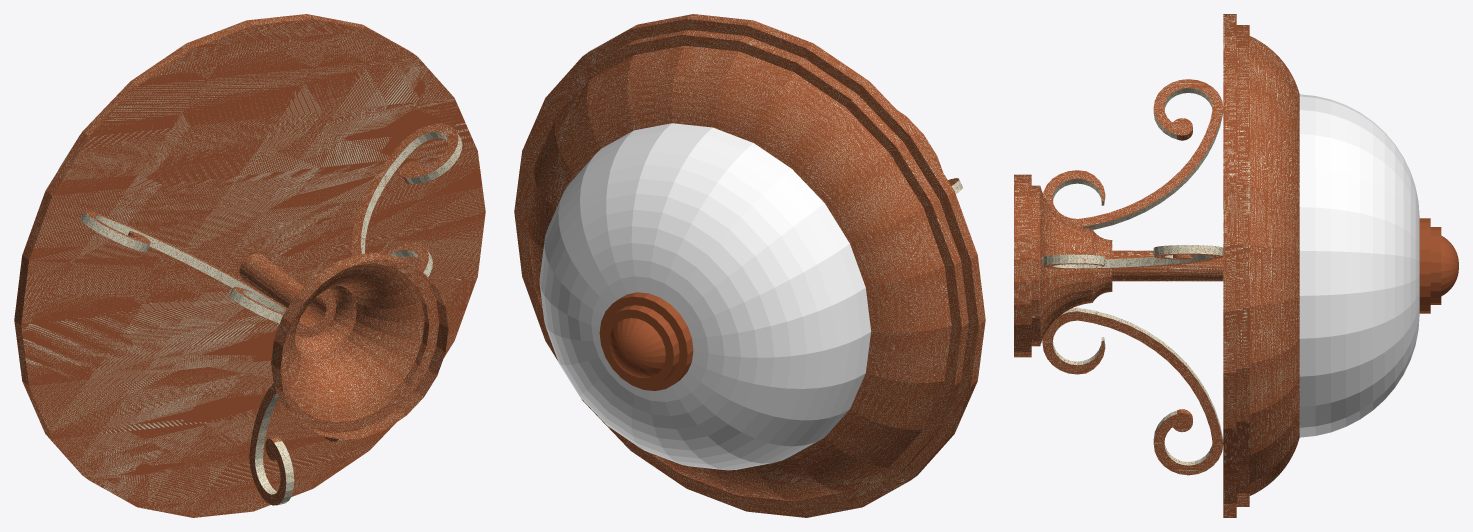
3 views of the same model, side by side, from view 1: azimuth 30°, elevation 25°; view 2: azimuth 150°, elevation 25°; view 3: azimuth 270°, elevation 25° (orthographic). The views are drawn at different scales.
Parts seen in each view (by area): view 1: light fixture ceiling mount; view 2: light fixture ceiling mount; view 3: light fixture ceiling mount.
Part boxes in pixels (x1,y1,x2,y2): light fixture ceiling mount: [14, 14, 485, 517]; light fixture ceiling mount: [514, 14, 985, 517]; light fixture ceiling mount: [1014, 14, 1458, 517].
Bounding box in the file's own units: 14.5 × 14.5 × 12.75.
